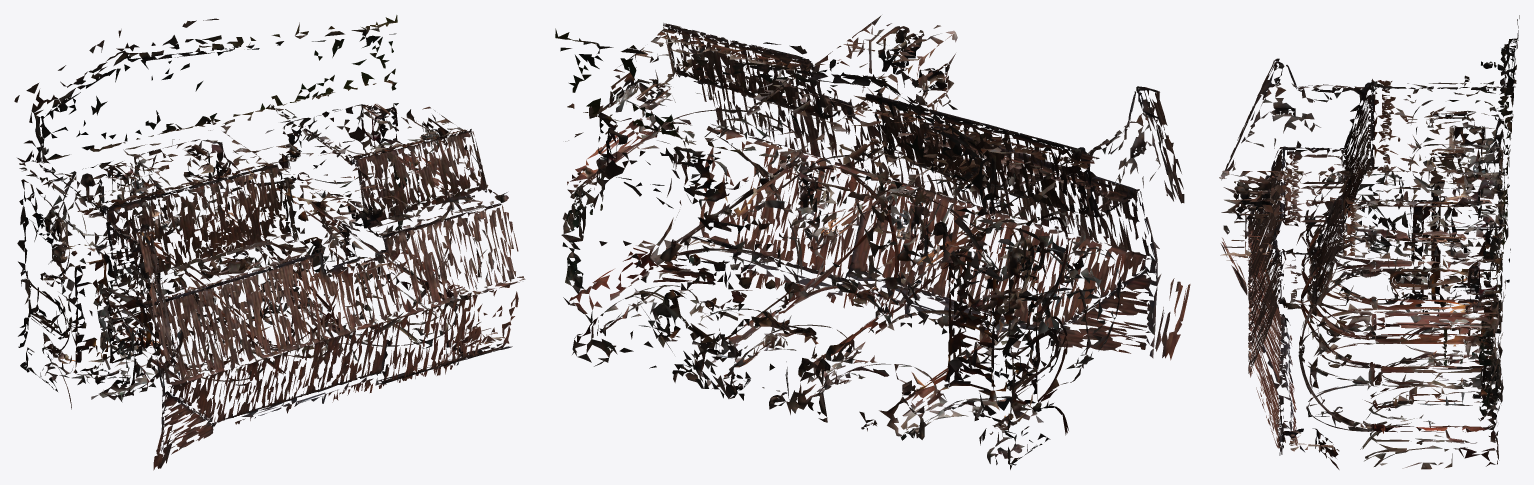
3 renders of one model, left to right at view 1: azimuth 30°, elevation 25°; view 2: azimuth 150°, elevation 25°; view 3: azimuth 270°, elevation 25°, orthographic. The views are drawn at different scales.
Size of the model in its own units: 25.03 by 20.11 by 16.94.
Materials: 1 (1 with a texture image).
